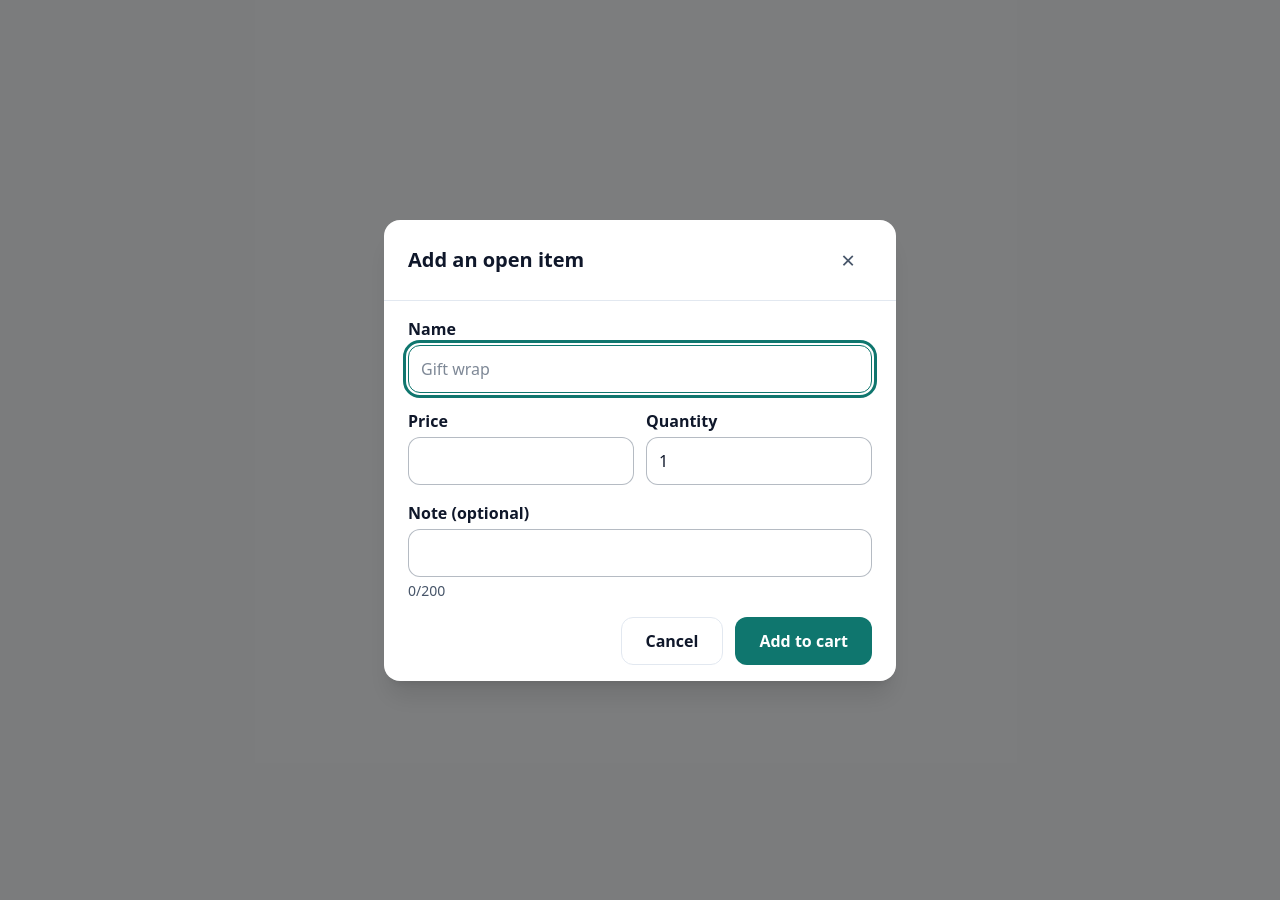
Test case: OpenItemDialog › validates the name, price and quantity
Replace the text in the field labelled "Quantity" with "0": (759, 460) x1=646 y1=436 x2=872 y2=484
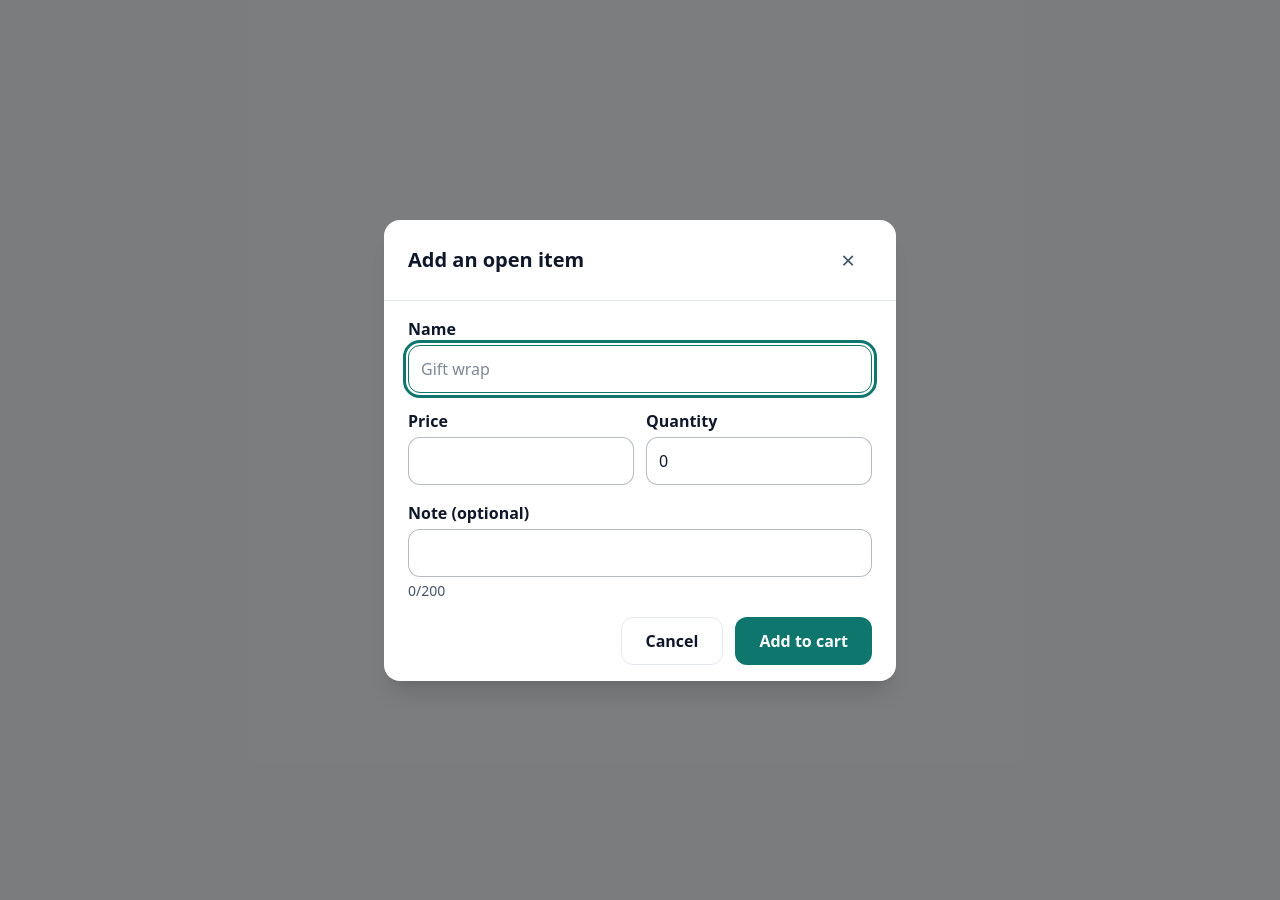
Click the button "Add to cart": (804, 640) x1=735 y1=616 x2=872 y2=664
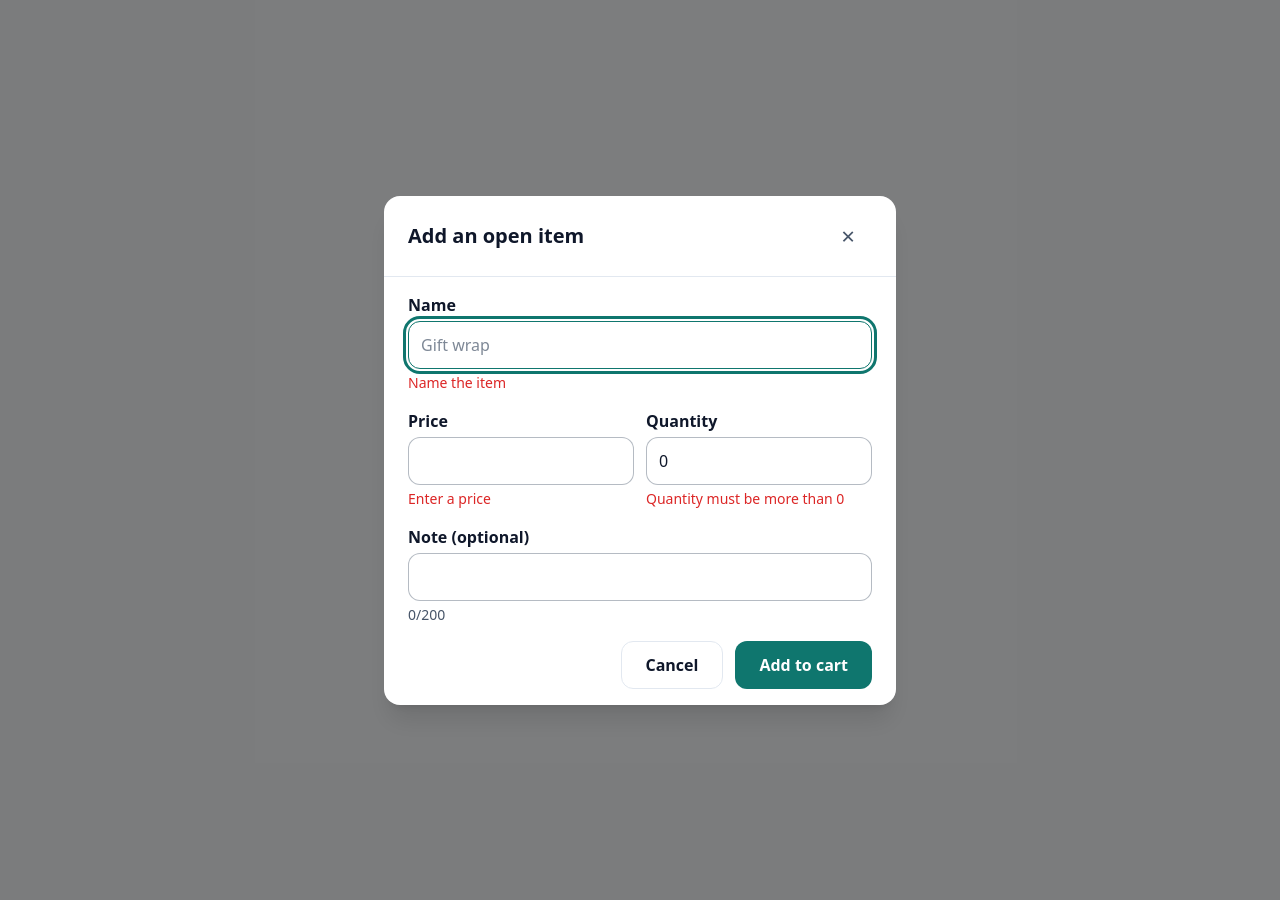
Expected: the text "Name the item" is shown, x1=408 y1=372 x2=506 y2=392
Expected: the text "Enter a price" is shown, x1=408 y1=488 x2=491 y2=508
Expected: the text "Quantity must be more than 0" is shown, x1=646 y1=488 x2=872 y2=508
